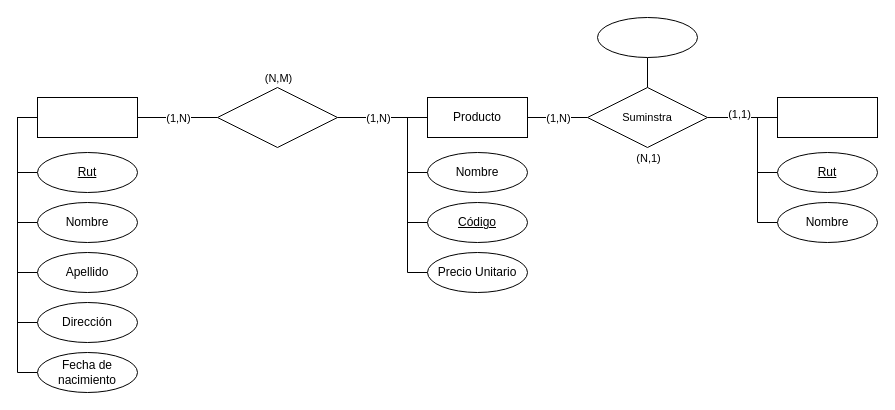
The diagram is 895 pixels wide and 410 high, and some of its shapes have lost their labels. The shapes that lost their labels are listed below. From the top down, each one's centre as x and y in pixels, then its label:
At (647,37): "Cantidad".
At (87,117): "Cliente".
At (277,117): "Compra".
At (827,117): "Proveedor".
